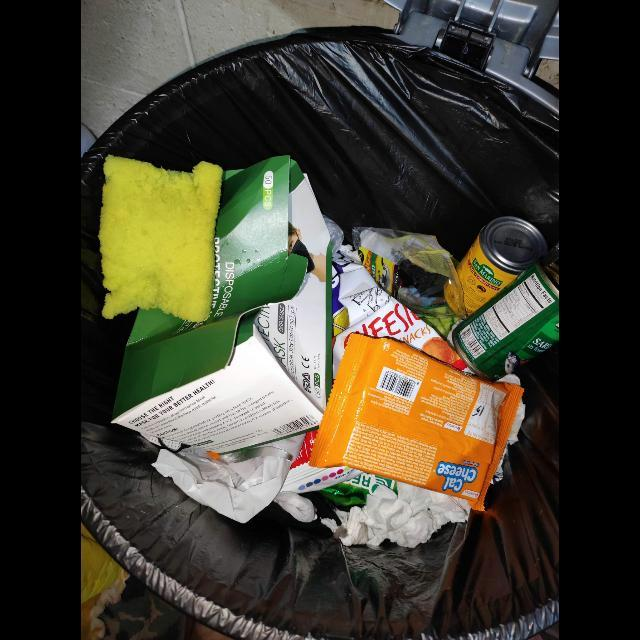aluminum: (448, 249, 560, 381), (444, 217, 549, 318)
cardboard: (112, 156, 331, 454)
food_wrapper: (314, 332, 526, 511), (327, 238, 468, 379)
paper: (152, 435, 305, 523), (320, 479, 471, 549)
plastic_sachet: (389, 235, 459, 281), (359, 245, 402, 301)
